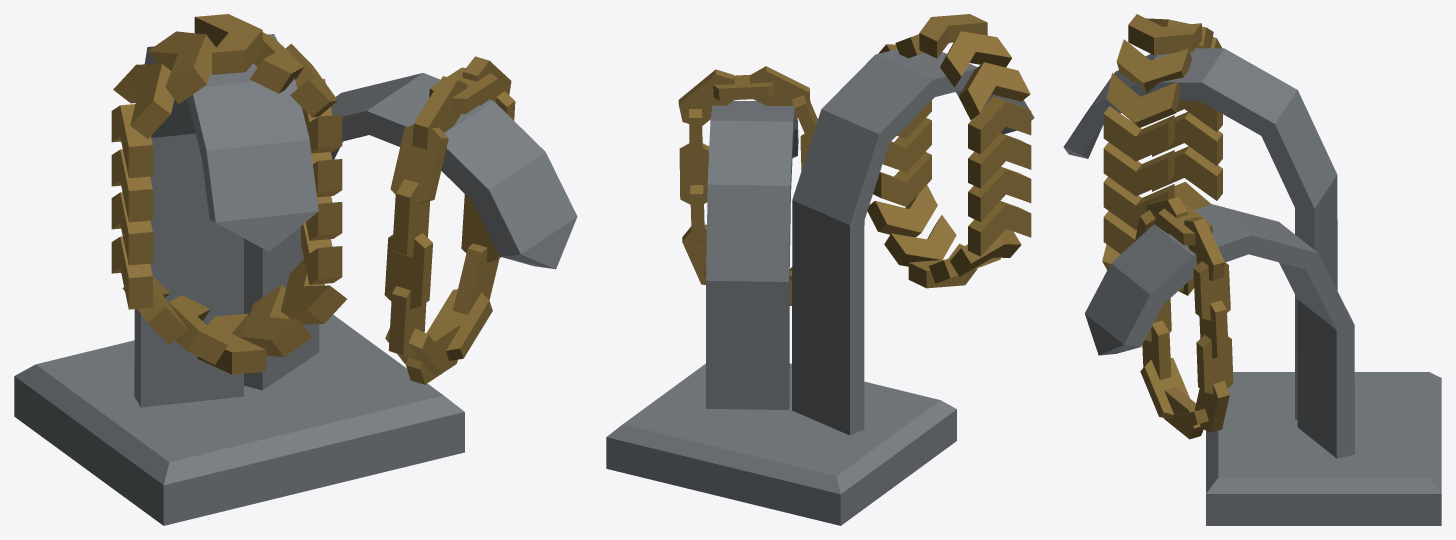
Rendered from WM_BraceletDisplay.fbx.
The picture shows the model from 3 angles, left to right: view 1: azimuth 30°, elevation 25°; view 2: azimuth 150°, elevation 25°; view 3: azimuth 270°, elevation 25°; orthographic projection. The views are drawn at different scales.
Parts seen in each view (by area): view 1: Cube_48; view 2: Cube_48; view 3: Cube_48.
Part boxes in pixels (x1=…): Cube_48: x1=14, y1=14, x2=577, y2=525; Cube_48: x1=606, y1=14, x2=1034, y2=525; Cube_48: x1=1063, y1=14, x2=1441, y2=525.
Size of the model in its own units: 2.15 by 2.43 by 2.09.
